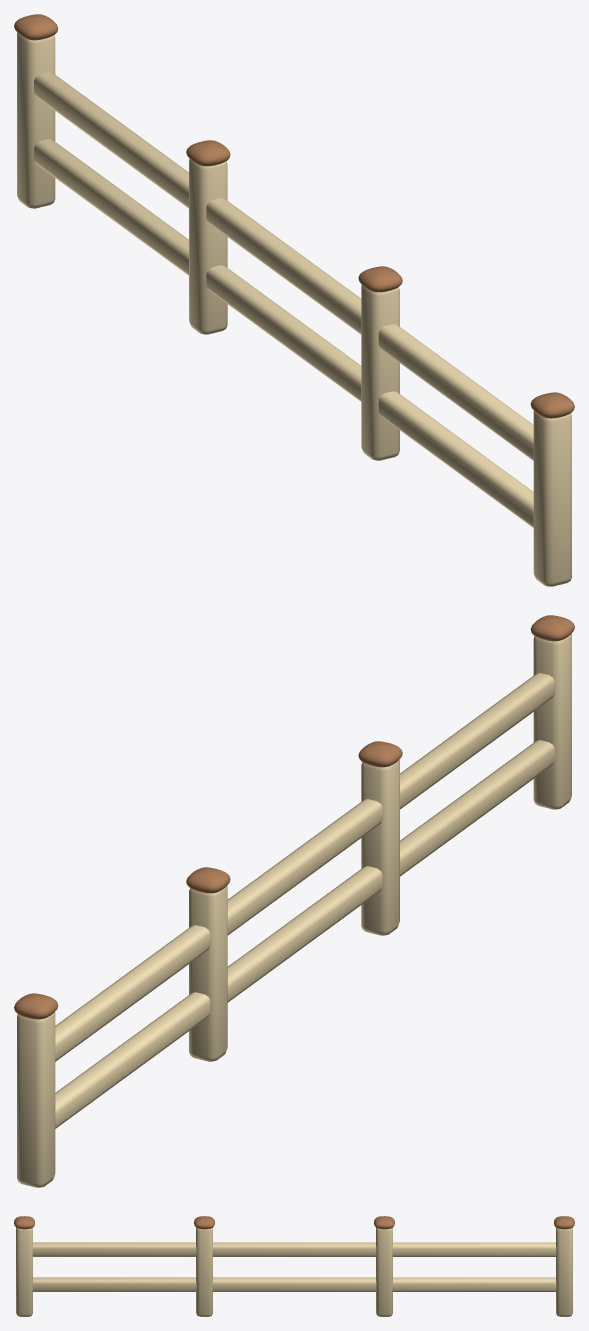
The model's file is farm_fence.glb.
3 renders of one model, top to bottom at view 1: azimuth 30°, elevation 25°; view 2: azimuth 150°, elevation 25°; view 3: azimuth 270°, elevation 25°, orthographic. The views are drawn at different scales.
Parts seen in each view (by area): view 1: farm_fence_crafted_mesh; view 2: farm_fence_crafted_mesh; view 3: farm_fence_crafted_mesh.
Part boxes in pixels (bbox=[...]): farm_fence_crafted_mesh: bbox=[14, 14, 574, 586]; farm_fence_crafted_mesh: bbox=[14, 615, 574, 1187]; farm_fence_crafted_mesh: bbox=[14, 1216, 574, 1316].
Bounding box in the file's own units: 0.2351 × 1.19 × 6.24.
